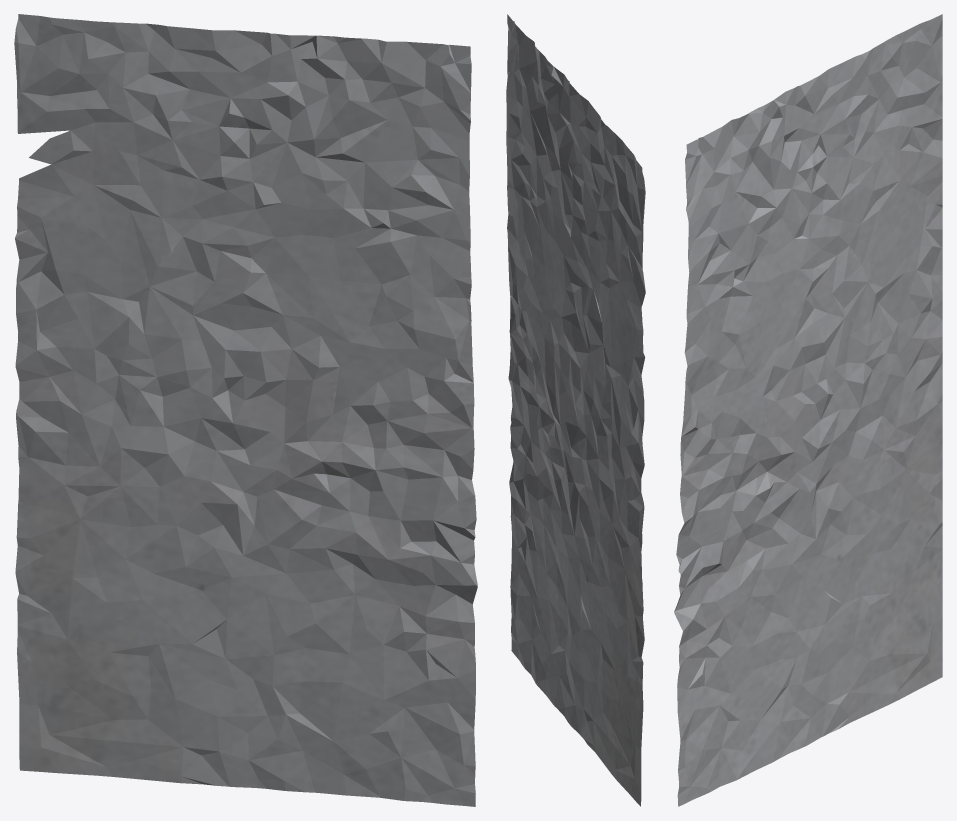
3 views of the same model, side by side, from view 1: azimuth 30°, elevation 25°; view 2: azimuth 150°, elevation 25°; view 3: azimuth 270°, elevation 25° (orthographic). The views are drawn at different scales.
Bounding box in the file's own units: 0.3591 × 0.8374 × 0.3078.
2 materials, 2 textured.
